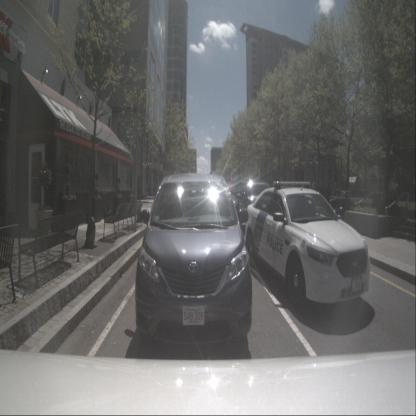vehicle-car: (135, 173, 253, 347), (235, 182, 270, 230)
